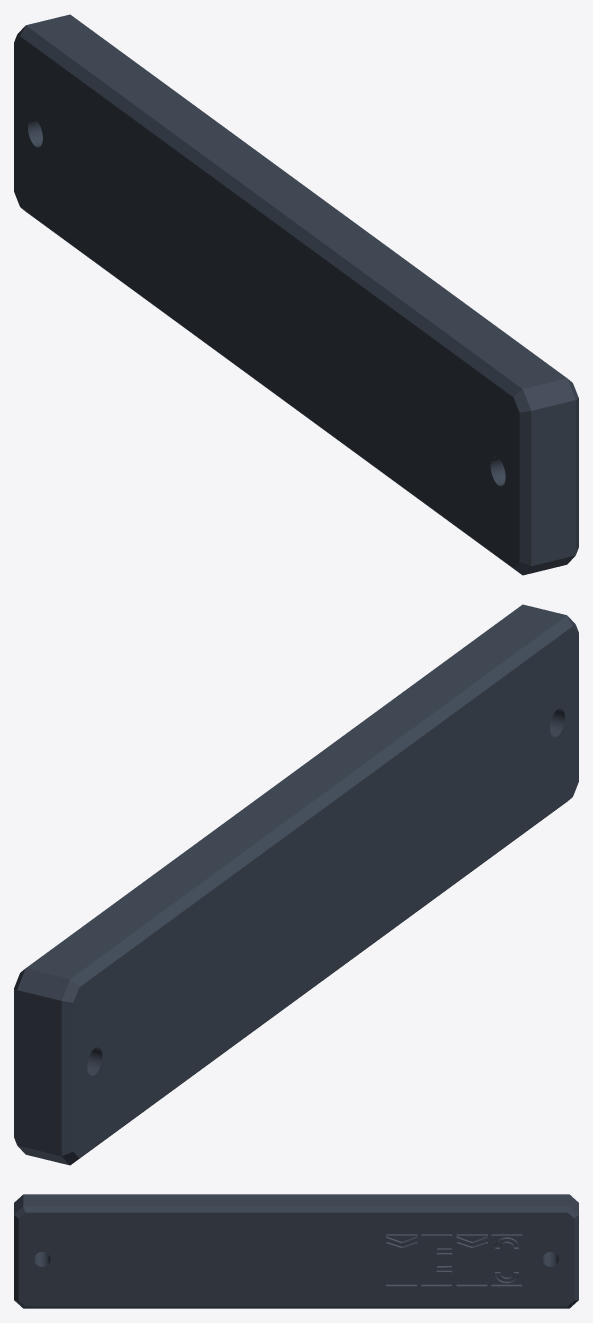
Rendered from READER V-Color.glb.
3 renders of one model, top to bottom at view 1: azimuth 30°, elevation 25°; view 2: azimuth 150°, elevation 25°; view 3: azimuth 270°, elevation 25°, orthographic. The views are drawn at different scales.
Parts seen in each view (by area): view 1: mesh_0; view 2: mesh_0; view 3: mesh_0, Logo-Memo.svg.001.
Boxes of the visible parts, bbox=[...] form: mesh_0: bbox=[14, 14, 578, 575]; mesh_0: bbox=[14, 604, 578, 1165]; mesh_0: bbox=[14, 1194, 578, 1308]; Logo-Memo.svg.001: bbox=[386, 1234, 522, 1286].
Bounding box in the file's own units: 0.2726 × 0.7522 × 3.76.
